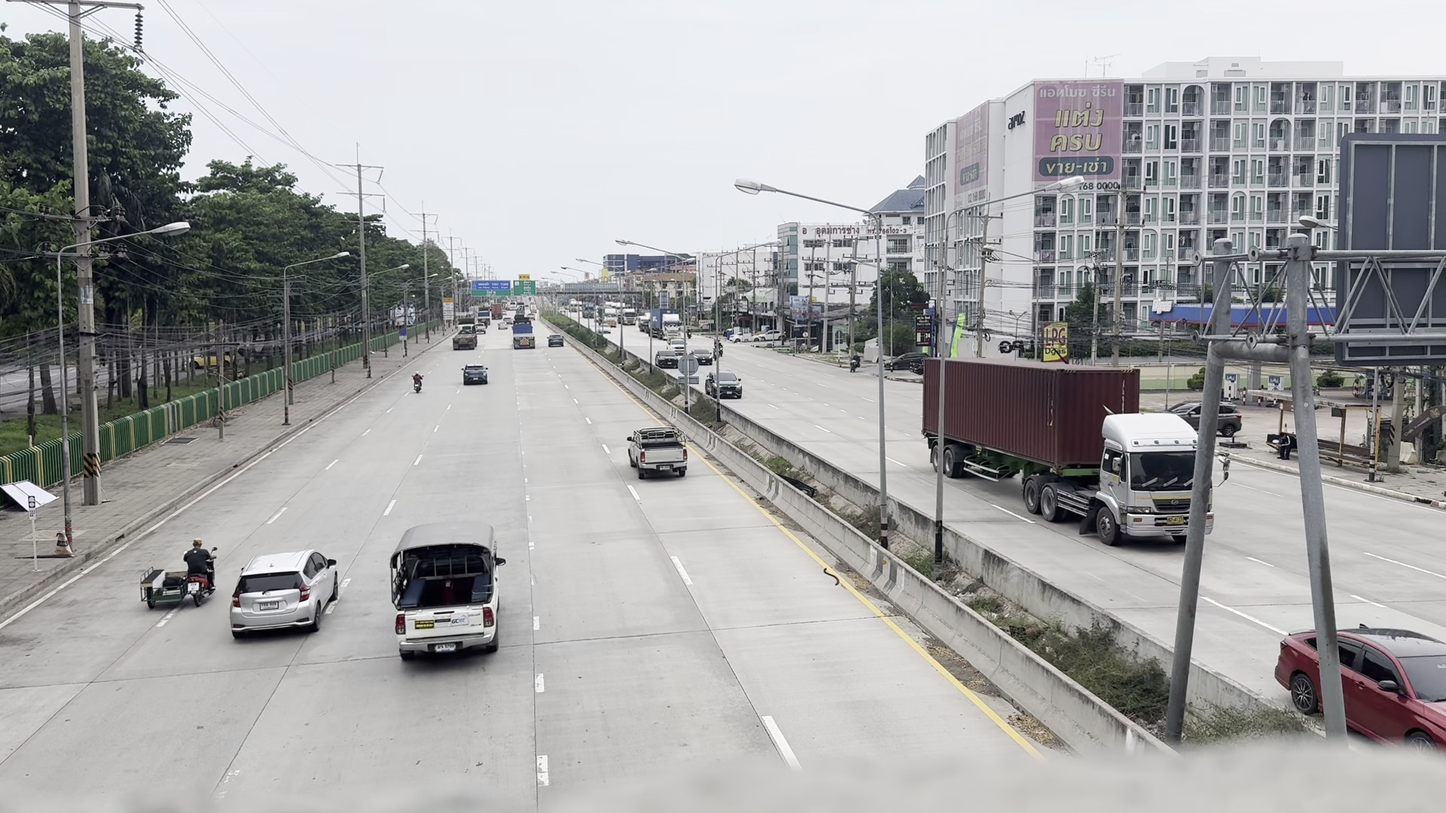car: (1274, 626, 1445, 747), (389, 541, 503, 659), (228, 549, 342, 637), (626, 425, 687, 478), (0, 480, 57, 516), (704, 368, 744, 398), (512, 316, 537, 348), (713, 371, 742, 397), (461, 360, 489, 386), (451, 327, 477, 348)
motorbike: (143, 531, 216, 610)
truck: (1023, 410, 1202, 547), (1083, 410, 1207, 547)
